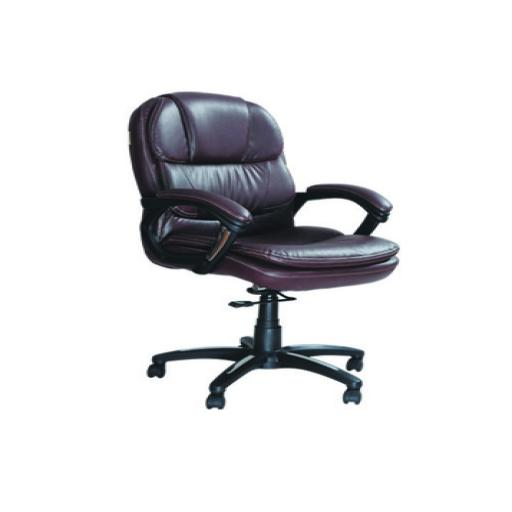chair: (82, 79, 424, 432)
